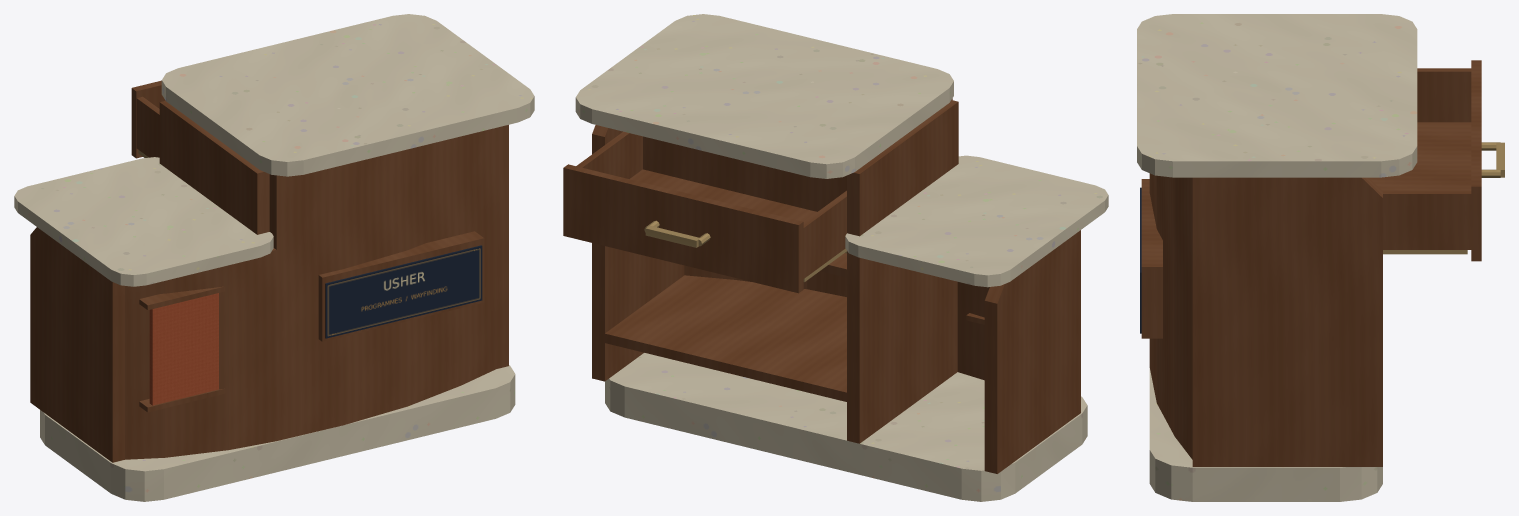
The model's file is AST-CUL-002_access.glb.
3 views of the same model, side by side, from view 1: azimuth 30°, elevation 25°; view 2: azimuth 150°, elevation 25°; view 3: azimuth 270°, elevation 25° (orthographic). The views are drawn at different scales.
Visible parts, largest first — view 1: AST-CUL-002_access__AST-CUL-002__warm_walnut, AST-CUL-002_access__AST-CUL-002__warm_stone, AST-CUL-002_access__AST-CUL-002__usher_original, AST-CUL-002_access__AST-CUL-002__auditorium_amber_velvet, AST-CUL-002_access__USHER_DRAWER__warm_walnut; view 2: AST-CUL-002_access__AST-CUL-002__warm_stone, AST-CUL-002_access__AST-CUL-002__warm_walnut, AST-CUL-002_access__USHER_DRAWER__warm_walnut, AST-CUL-002_access__USHER_DRAWER__champagne_metal; view 3: AST-CUL-002_access__AST-CUL-002__warm_walnut, AST-CUL-002_access__AST-CUL-002__warm_stone, AST-CUL-002_access__USHER_DRAWER__warm_walnut, AST-CUL-002_access__USHER_DRAWER__champagne_metal.
Part boxes in pixels (x1,y1,x2,y2): AST-CUL-002_access__AST-CUL-002__warm_walnut: [30, 101, 508, 462]; AST-CUL-002_access__AST-CUL-002__warm_stone: [14, 14, 534, 501]; AST-CUL-002_access__AST-CUL-002__usher_original: [325, 245, 482, 338]; AST-CUL-002_access__AST-CUL-002__auditorium_amber_velvet: [149, 293, 218, 405]; AST-CUL-002_access__USHER_DRAWER__warm_walnut: [131, 80, 165, 158]; AST-CUL-002_access__AST-CUL-002__warm_stone: [575, 14, 1108, 501]; AST-CUL-002_access__AST-CUL-002__warm_walnut: [592, 98, 1080, 473]; AST-CUL-002_access__USHER_DRAWER__warm_walnut: [563, 131, 846, 293]; AST-CUL-002_access__USHER_DRAWER__champagne_metal: [644, 220, 846, 282]; AST-CUL-002_access__AST-CUL-002__warm_walnut: [1141, 173, 1382, 466]; AST-CUL-002_access__AST-CUL-002__warm_stone: [1137, 14, 1417, 501]; AST-CUL-002_access__USHER_DRAWER__warm_walnut: [1369, 60, 1481, 261]; AST-CUL-002_access__USHER_DRAWER__champagne_metal: [1383, 142, 1504, 254].
Size of the model in its own units: 1.51 by 1.07 by 1.02.
Materials: 5 (5 with a texture image).
